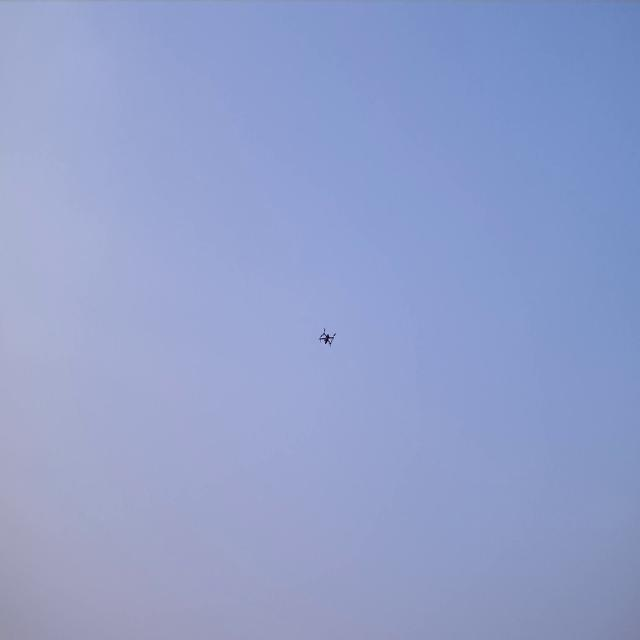UAV: (318, 326, 338, 349)
